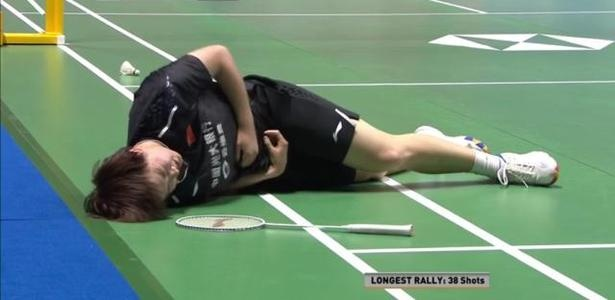falling: (85, 40, 550, 221)
